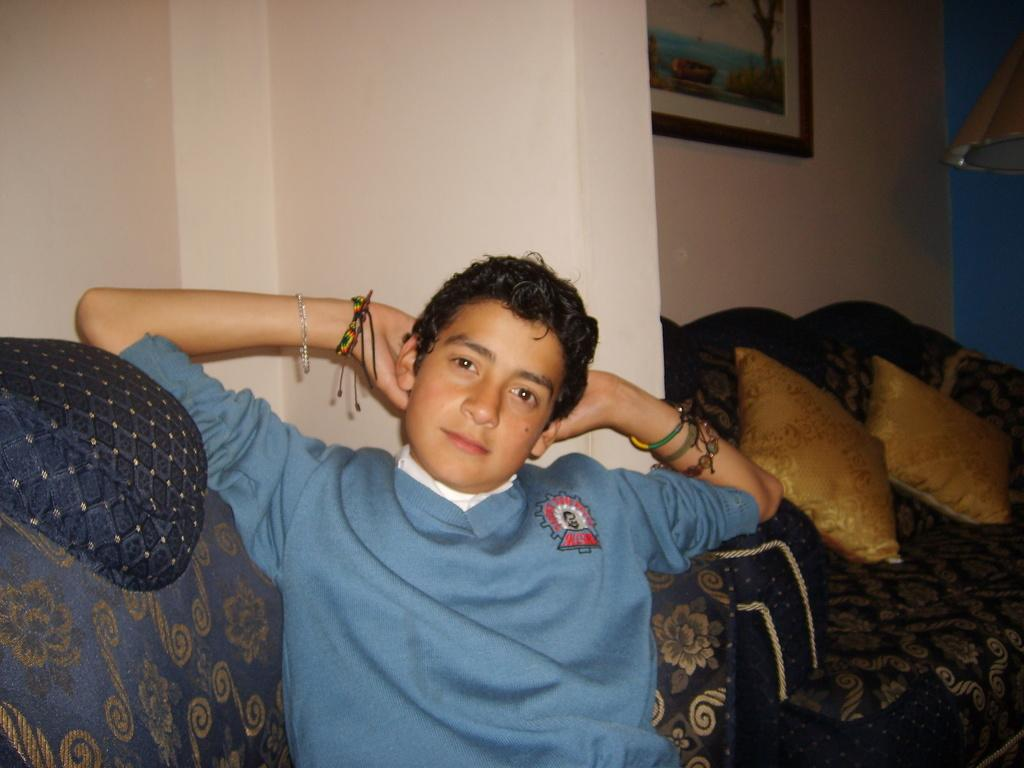Sem Máscara: (407, 297, 565, 485)
